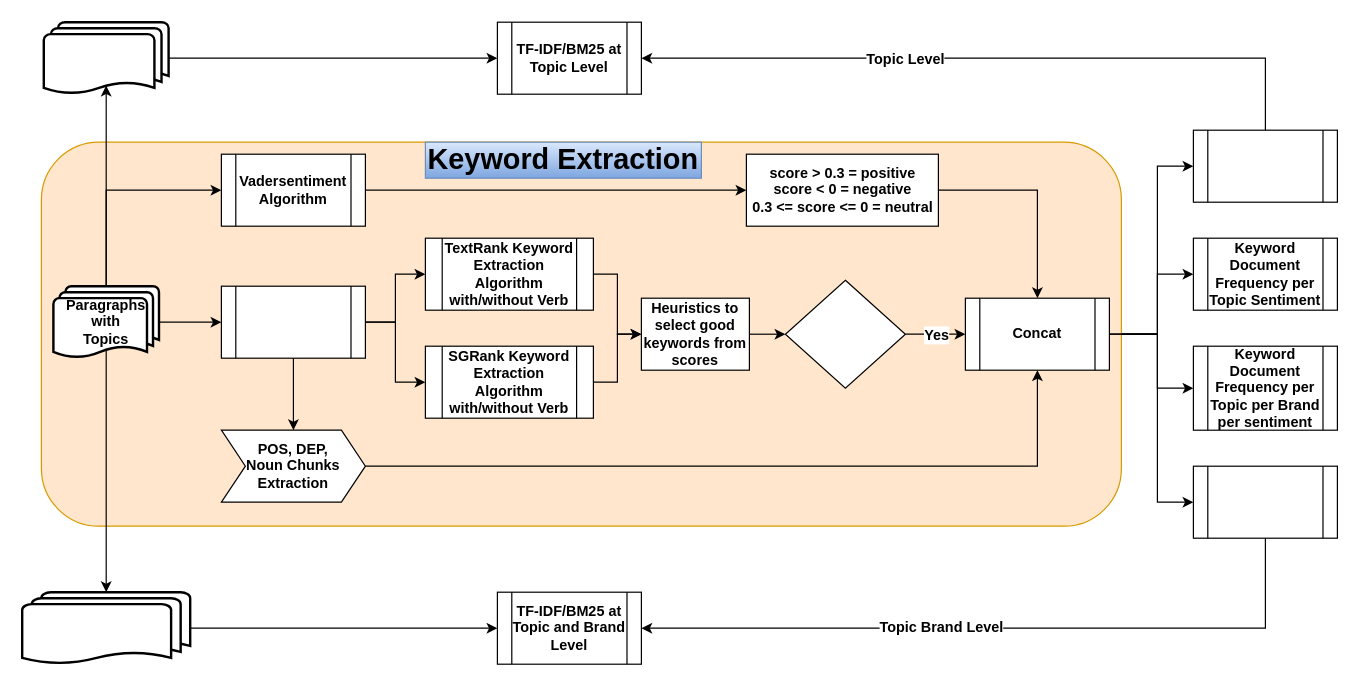
Some shapes in this 1358 by 685 pixel diagram are drawn without their labels. The shapes that lost their labels are listed below. From the top down, each one's centre as x and y in pixels, then its label:
point (105, 57): Merged all Paragraphs per topic
point (1264, 165): Keyword Document Frequency per Topic
point (292, 321): Spacy NLP Pipeline
point (844, 333): Is keyword ngram > 10 ?
point (1264, 501): Keyword Document Frequency per Topic per Brand
point (105, 627): Merged all Paragraphs per topic per brand
